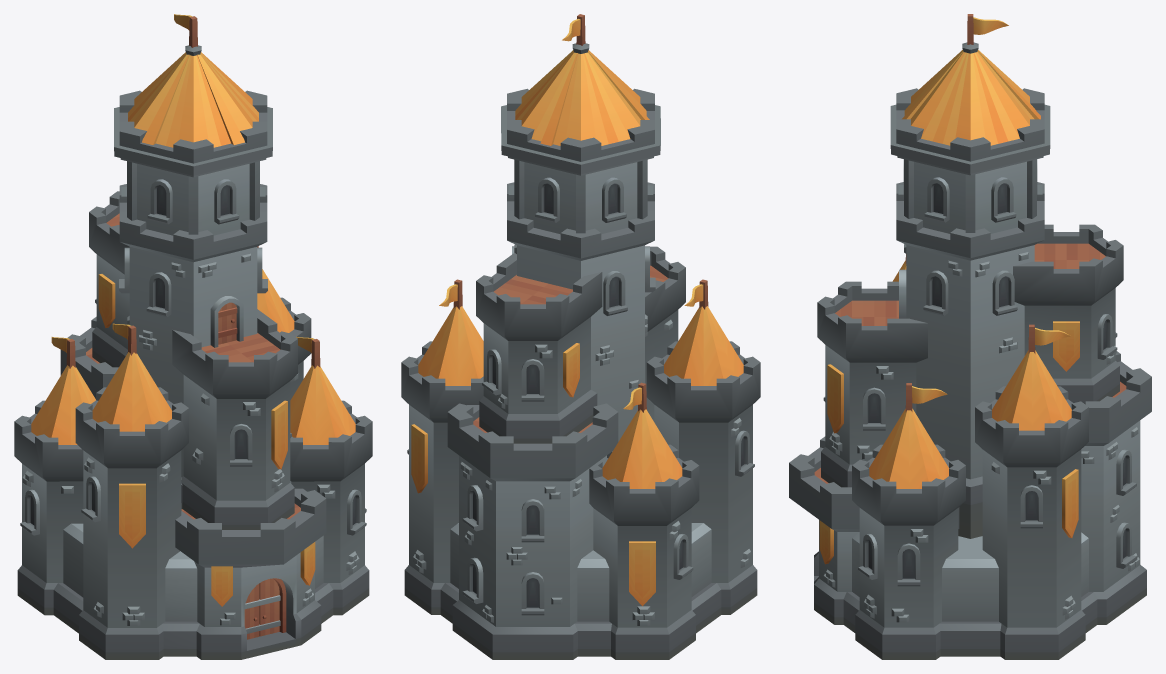
The model's file is kay-castelo-amarelo.gltf.
3 views of the same model, side by side, from view 1: azimuth 30°, elevation 25°; view 2: azimuth 150°, elevation 25°; view 3: azimuth 270°, elevation 25° (orthographic).
Parts seen in each view (by area): view 1: building_castle_yellow; view 2: building_castle_yellow; view 3: building_castle_yellow.
Boxes of the visible parts, <box> form: building_castle_yellow: <box>14,14,372,659</box>; building_castle_yellow: <box>401,14,760,659</box>; building_castle_yellow: <box>789,14,1151,659</box>.
Size of the model in its own units: 9.88 by 19.9 by 11.28.
Materials: 1 (1 with a texture image).
